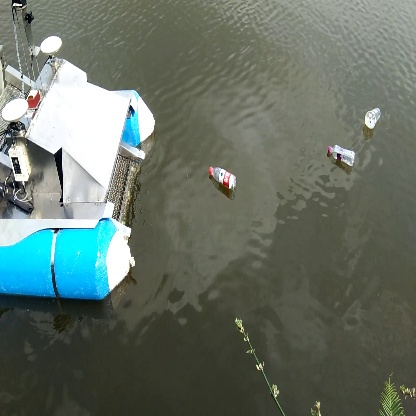bottle: (323, 141, 364, 168), (207, 162, 241, 191), (360, 105, 385, 131)
